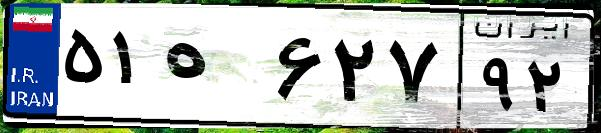1: (110, 28, 158, 98)
2: (330, 28, 385, 110), (525, 38, 570, 115)
5: (57, 26, 110, 100)
6: (270, 28, 330, 110)
7: (385, 28, 445, 110)
9: (475, 38, 525, 113)
ه: (158, 20, 270, 120)
